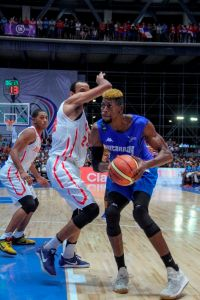baloncesto: (109, 155, 139, 186)
